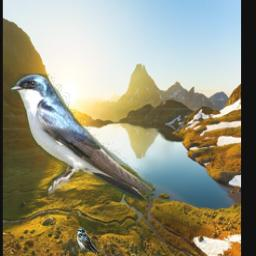Swallow: (9, 75, 153, 202), (76, 228, 99, 254)
